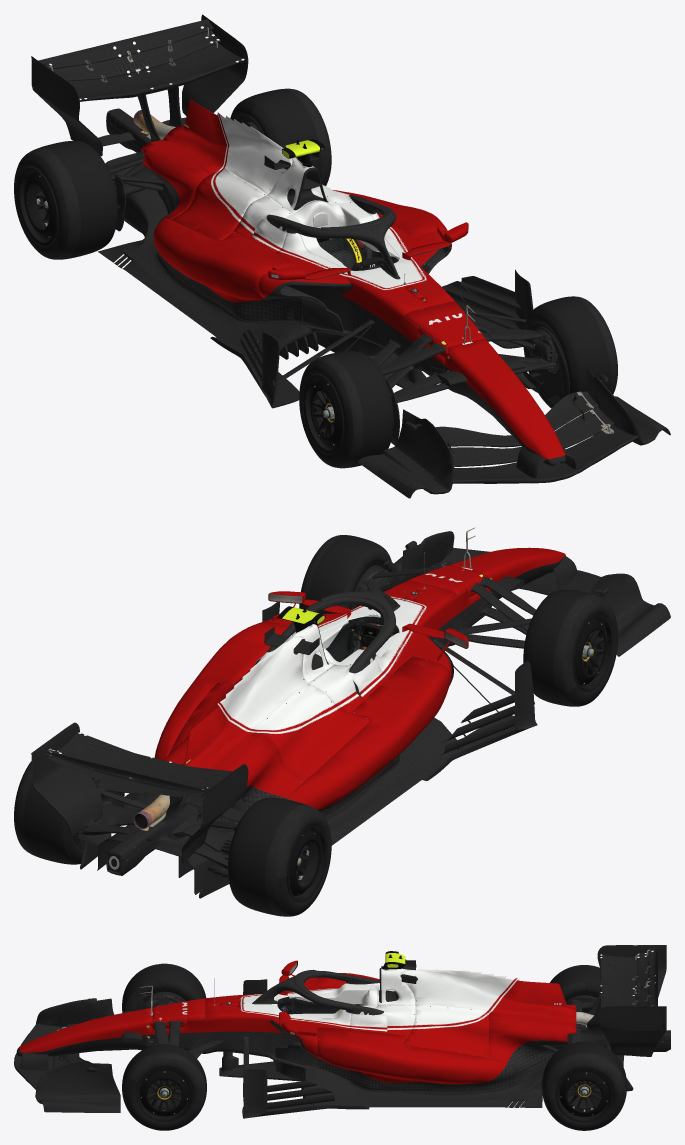
Rendered from car.glb.
The picture shows the model from 3 angles, top to bottom: view 1: azimuth 30°, elevation 25°; view 2: azimuth 150°, elevation 25°; view 3: azimuth 270°, elevation 25°; orthographic projection. The views are drawn at different scales.
Parts seen in each view (by area): view 1: floor_damage_l_SUB1.003, floor_damage_l_SUB1.001, sidepod_fl_SUB3.002, frontspoiler_fm_SUB1.001, rearwing_top_SUB1.001, sidepod_fl_SUB3.006, TYRE_LR_SUB1.009, nosecone_SUB2.001, floor_damage_l_SUB1.015, rearwingmoving_top_SUB1.012, TYRE_LF_SUB1.006, frontspoiler_fm_SUB1.010 (+23 smaller); view 2: sidepod_fl_SUB3.002, sidepod_fl_SUB3.006, floor_damage_l_SUB1.003, rearwing_top_SUB1.001, floor_damage_l_SUB1.001, TYRE_LR_SUB1.009, frontspoiler_fm_SUB1.001, TYRE_LF_SUB1.006, TYRE_LR_SUB1.002_SUB0.001, TYRE_LF_SUB1.001_SUB1.001, safetycell_SUB1.002, TYRE_LF_SUB1.004 (+25 smaller); view 3: sidepod_fl_SUB3.002, floor_damage_l_SUB1.003, floor_damage_l_SUB1.001, sidepod_fl_SUB3.006, frontspoiler_fm_SUB1.001, rearwing_top_SUB1.001, floor_damage_l_SUB1.015, nosecone_SUB2.001, TYRE_LF_SUB1.001_SUB0.001, TYRE_LR_SUB1.002_SUB1.001, TYRE_LF_SUB1.001_SUB2.001, TYRE_LR_SUB1.002_SUB2.001 (+24 smaller).
Boxes of the visible parts, x1,y1,x2,y2 form: floor_damage_l_SUB1.003: [98, 144, 533, 408]; floor_damage_l_SUB1.001: [234, 185, 486, 365]; sidepod_fl_SUB3.002: [141, 99, 322, 240]; frontspoiler_fm_SUB1.001: [358, 365, 670, 498]; rearwing_top_SUB1.001: [32, 14, 248, 156]; sidepod_fl_SUB3.006: [154, 190, 447, 302]; TYRE_LR_SUB1.009: [24, 141, 116, 259]; nosecone_SUB2.001: [445, 338, 565, 459]; floor_damage_l_SUB1.015: [263, 245, 450, 383]; rearwingmoving_top_SUB1.012: [43, 20, 215, 80]; TYRE_LF_SUB1.006: [307, 351, 393, 468]; frontspoiler_fm_SUB1.010: [436, 392, 603, 466]; sidepod_fl_SUB3.002: [163, 635, 370, 798]; sidepod_fl_SUB3.006: [154, 621, 450, 809]; floor_damage_l_SUB1.003: [97, 602, 537, 894]; rearwing_top_SUB1.001: [31, 722, 248, 862]; floor_damage_l_SUB1.001: [234, 565, 489, 712]; TYRE_LR_SUB1.009: [228, 797, 323, 916]; frontspoiler_fm_SUB1.001: [394, 531, 670, 656]; TYRE_LF_SUB1.006: [523, 589, 608, 706]; TYRE_LR_SUB1.002_SUB0.001: [14, 762, 80, 864]; TYRE_LF_SUB1.001_SUB1.001: [299, 535, 386, 613]; safetycell_SUB1.002: [106, 791, 201, 875]; TYRE_LF_SUB1.004: [573, 613, 613, 692]; sidepod_fl_SUB3.002: [400, 969, 576, 1063]; floor_damage_l_SUB1.003: [219, 979, 624, 1118]; floor_damage_l_SUB1.001: [150, 977, 415, 1057]; sidepod_fl_SUB3.006: [317, 973, 506, 1084]; frontspoiler_fm_SUB1.001: [14, 998, 120, 1112]; rearwing_top_SUB1.001: [597, 945, 666, 1056]; floor_damage_l_SUB1.015: [145, 1020, 317, 1069]; nosecone_SUB2.001: [19, 1008, 152, 1052]; TYRE_LF_SUB1.001_SUB0.001: [135, 1068, 193, 1122]; TYRE_LR_SUB1.002_SUB1.001: [555, 1069, 613, 1122]; TYRE_LF_SUB1.001_SUB2.001: [125, 1058, 203, 1130]; TYRE_LR_SUB1.002_SUB2.001: [545, 1059, 623, 1130].
Bounding box in the file's own units: 1.96 × 1.22 × 5.53.
28 materials, 21 textured.
